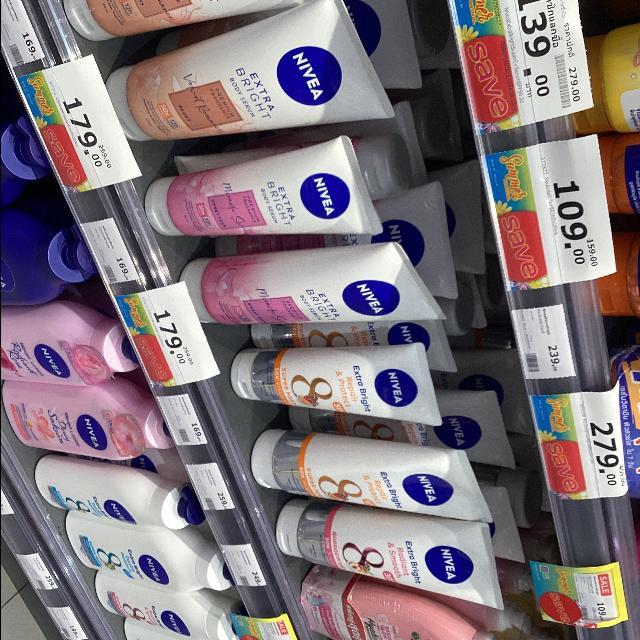Squeeze Tube: (71, 0, 553, 640), (103, 0, 407, 145), (173, 234, 457, 353), (134, 126, 392, 253), (272, 504, 502, 612), (237, 432, 492, 523), (218, 339, 446, 429)
